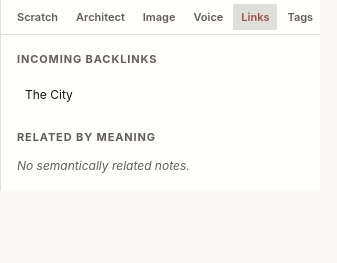
it: Backlinks tab preview › shows a preview snippet when hovering a backlink row
Expected: the text "Incoming Backlinks" is shown, [17,52,157,66]
Hover over the button "The City": (49, 94) [17,80,304,108]
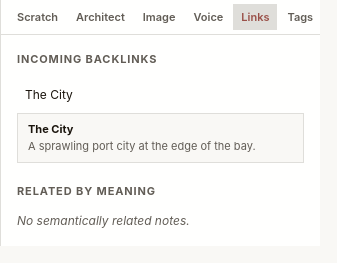
Expected: the element with test id "note-preview" is shown, [17,112,304,163]
Expected: the text "A sprawling port city at the edge of the bay." is shown, [28,139,293,154]
